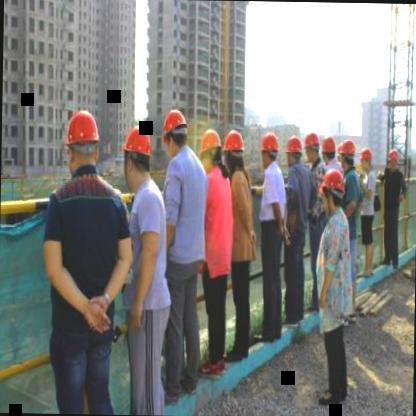helmet: (63, 106, 102, 178), (119, 124, 156, 191), (160, 104, 187, 157), (318, 168, 345, 212), (197, 128, 224, 168), (222, 128, 245, 174), (283, 132, 304, 170), (258, 129, 280, 164), (338, 138, 356, 169), (302, 132, 320, 162), (320, 132, 336, 164), (360, 145, 374, 172), (388, 148, 398, 172)
